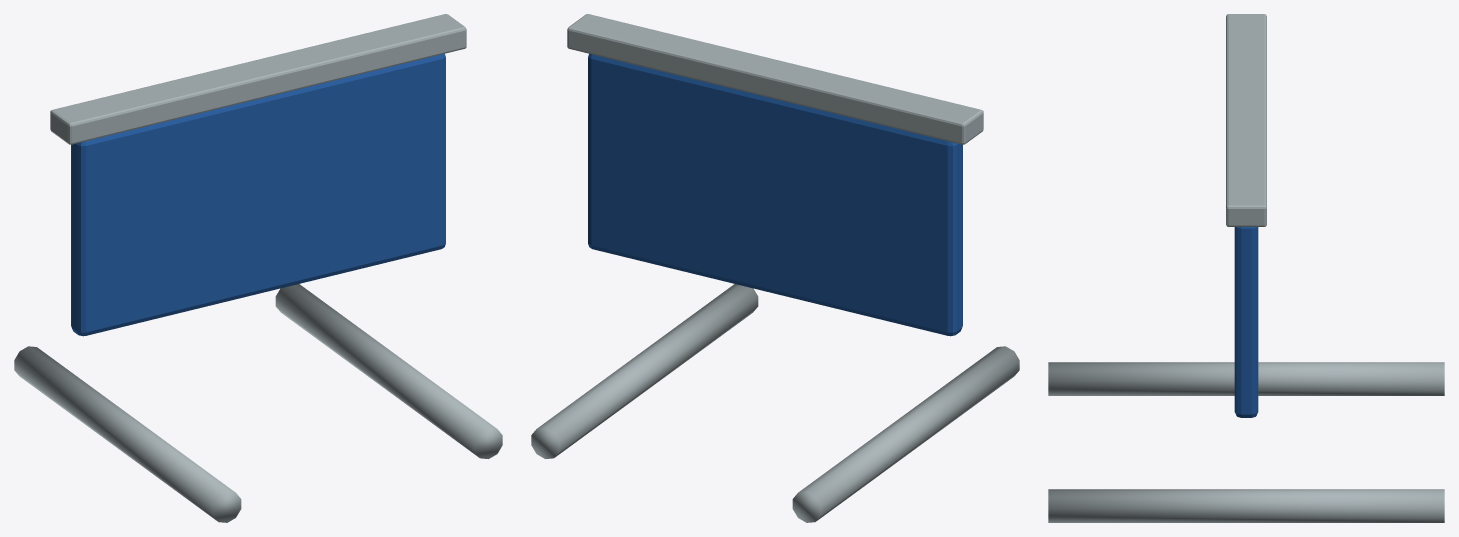
File: billboard.glb
3 views of the same model, side by side, from view 1: azimuth 30°, elevation 25°; view 2: azimuth 150°, elevation 25°; view 3: azimuth 270°, elevation 25° (orthographic).
Parts seen in each view (by area): view 1: billboard_panel, billboard_trim, billboard_post, billboard_post.001; view 2: billboard_panel, billboard_trim, billboard_post, billboard_post.001; view 3: billboard_post.001, billboard_post, billboard_trim, billboard_panel.
Part boxes in pixels (x1=…): billboard_panel: x1=71, y1=53, x2=445, y2=336; billboard_trim: x1=50, y1=14, x2=466, y2=144; billboard_post: x1=14, y1=346, x2=241, y2=522; billboard_post.001: x1=275, y1=284, x2=502, y2=458; billboard_panel: x1=588, y1=53, x2=962, y2=336; billboard_trim: x1=567, y1=14, x2=983, y2=144; billboard_post: x1=792, y1=346, x2=1019, y2=522; billboard_post.001: x1=531, y1=284, x2=758, y2=458; billboard_post.001: x1=1048, y1=489, x2=1444, y2=522; billboard_post: x1=1048, y1=362, x2=1444, y2=395; billboard_trim: x1=1226, y1=14, x2=1266, y2=226; billboard_panel: x1=1234, y1=227, x2=1258, y2=417.
Bounding box in the file's own units: 0.67 × 0.5625 × 0.58.
